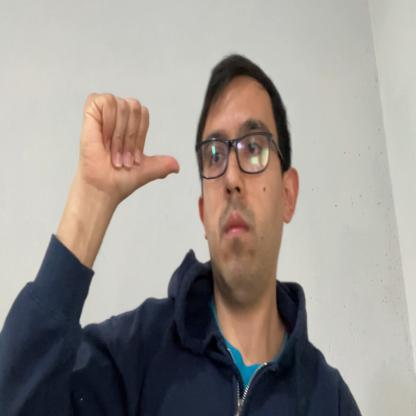A: (80, 92, 180, 204)
